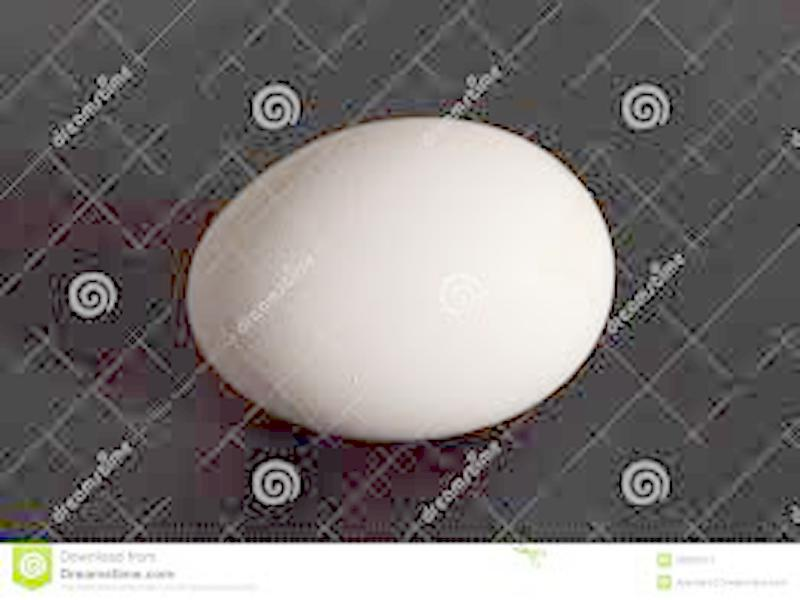Eggs: (186, 118, 617, 438)
